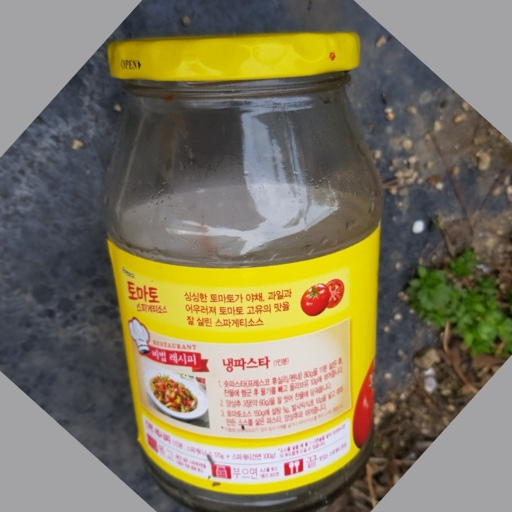Glass_5: (96, 31, 381, 504)
